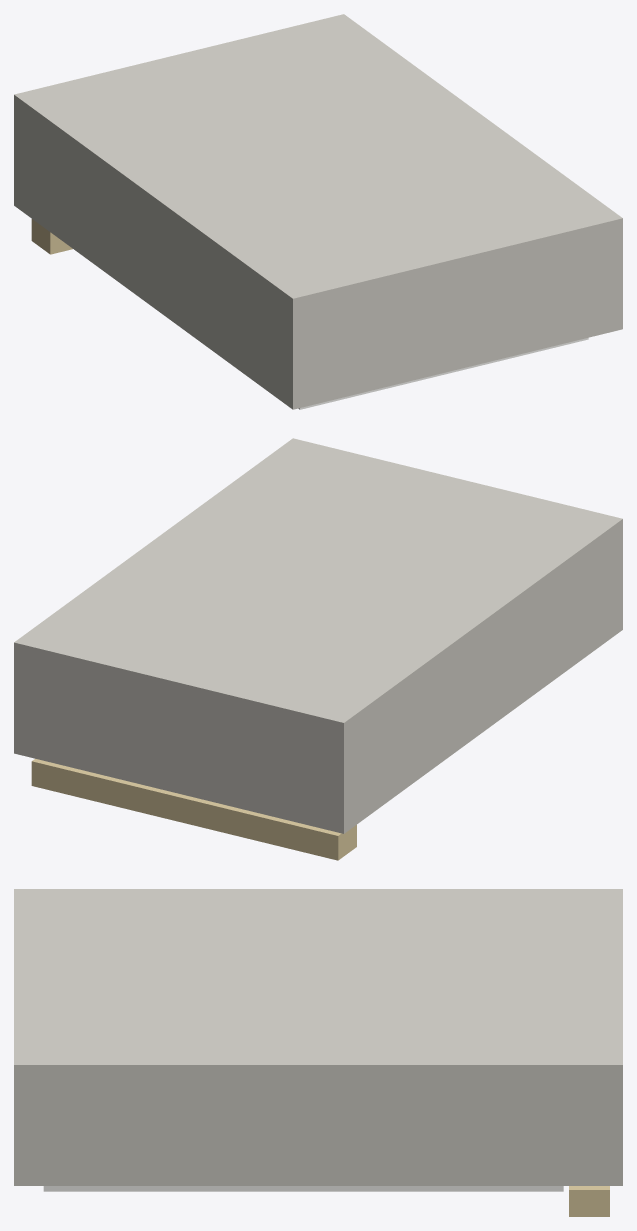
Rendered from tile_ivory.glb.
3 views of the same model, one above another, from view 1: azimuth 30°, elevation 25°; view 2: azimuth 150°, elevation 25°; view 3: azimuth 270°, elevation 25° (orthographic). The views are drawn at different scales.
Parts seen in each view (by area): view 1: tile_body, tile_face, tile_bottom_edge; view 2: tile_body, tile_bottom_edge; view 3: tile_body, tile_face, tile_bottom_edge.
Part boxes in pixels (x1,y1,x2,y2): tile_body: (14,14,622,409); tile_face: (298,337,588,409); tile_bottom_edge: (31,219,72,254); tile_body: (14,438,622,833); tile_bottom_edge: (31,758,356,860); tile_body: (14,889,622,1185); tile_face: (43,1186,563,1191); tile_bottom_edge: (569,1186,609,1216).
Size of the model in its own units: 0.56 by 0.235 by 0.82.
